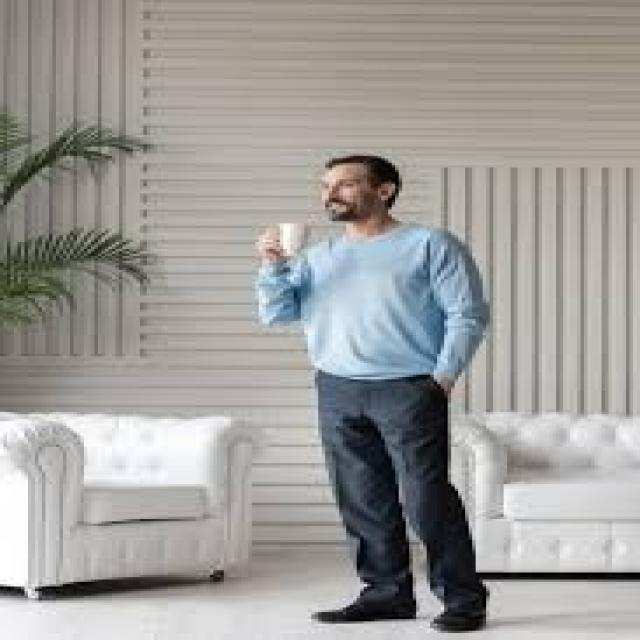walking: (210, 140, 504, 636)
